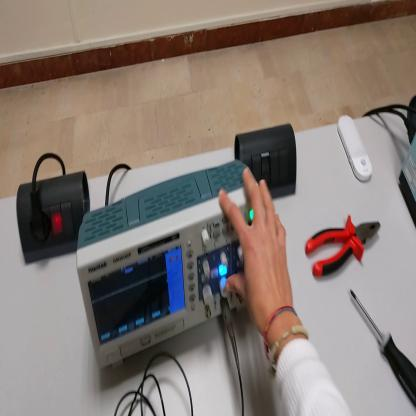hand: (218, 165, 296, 332)
oscilloscope: (77, 157, 258, 367)
pliers: (304, 223, 383, 280)
screwdriver-: (352, 292, 416, 406)
socket: (14, 170, 92, 267), (405, 94, 416, 144)
welder station: (402, 133, 416, 230)
